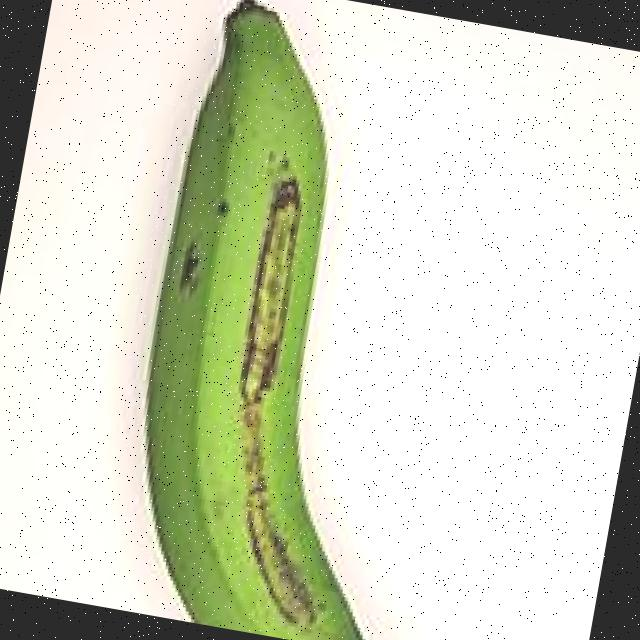Raw: (47, 0, 567, 640)
